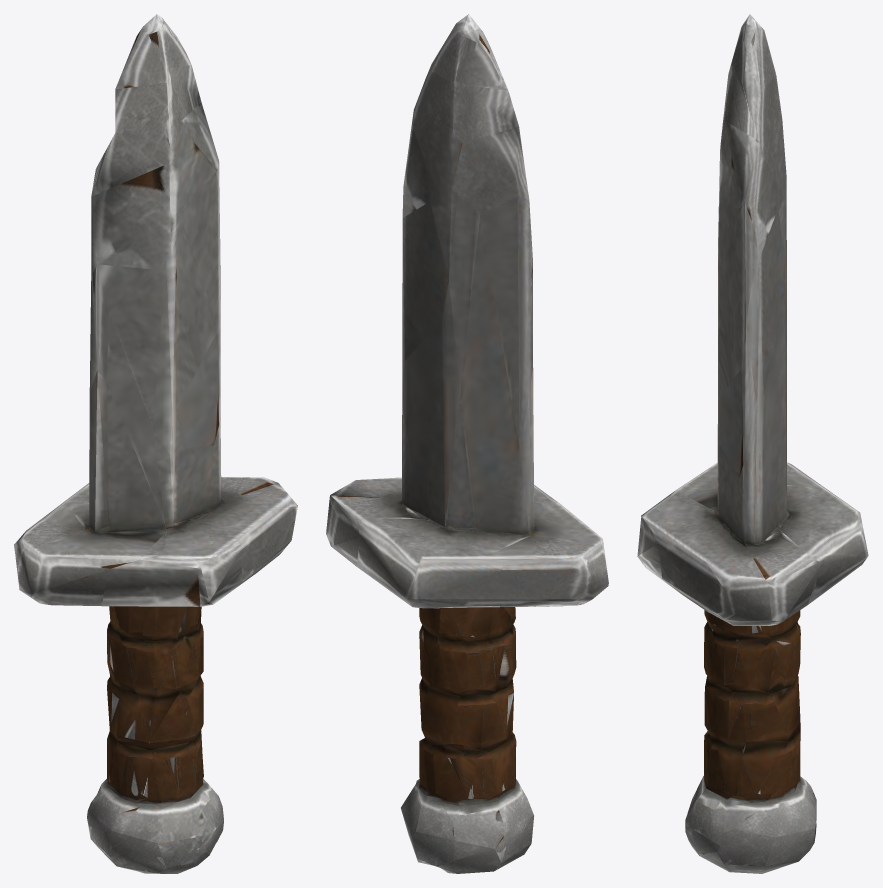
Rendered from minion_sword.glb.
3 views of the same model, side by side, from view 1: azimuth 30°, elevation 25°; view 2: azimuth 150°, elevation 25°; view 3: azimuth 270°, elevation 25° (orthographic).
Bounding box in the file's own units: 0.4916 × 1.51 × 0.3729.
1 material, 1 textured.
